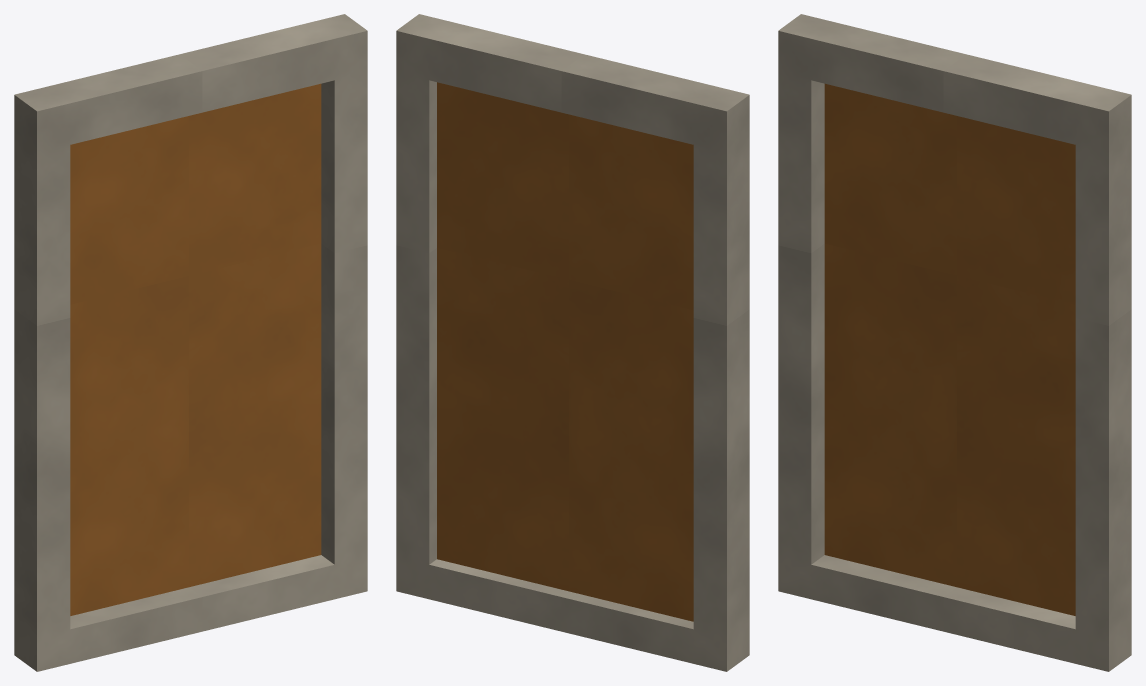
File: Window_Leaded_2_LOD2.gltf
3 views of the same model, side by side, from view 1: azimuth 30°, elevation 25°; view 2: azimuth 150°, elevation 25°; view 3: azimuth 330°, elevation 25° (orthographic).
Visible parts, largest first — view 1: Window_Leaded_2_LOD2; view 2: Window_Leaded_2_LOD2; view 3: Window_Leaded_2_LOD2.
Part boxes in pixels (<box>): Window_Leaded_2_LOD2: <box>14,14,367,671</box>; Window_Leaded_2_LOD2: <box>396,14,749,671</box>; Window_Leaded_2_LOD2: <box>778,14,1131,671</box>.
Bounding box in the file's own units: 1 × 1.62 × 0.12.
Materials: 2 (2 with a texture image).
